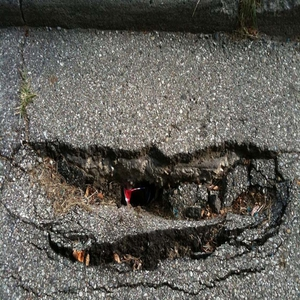pothole: (6, 138, 296, 273)
